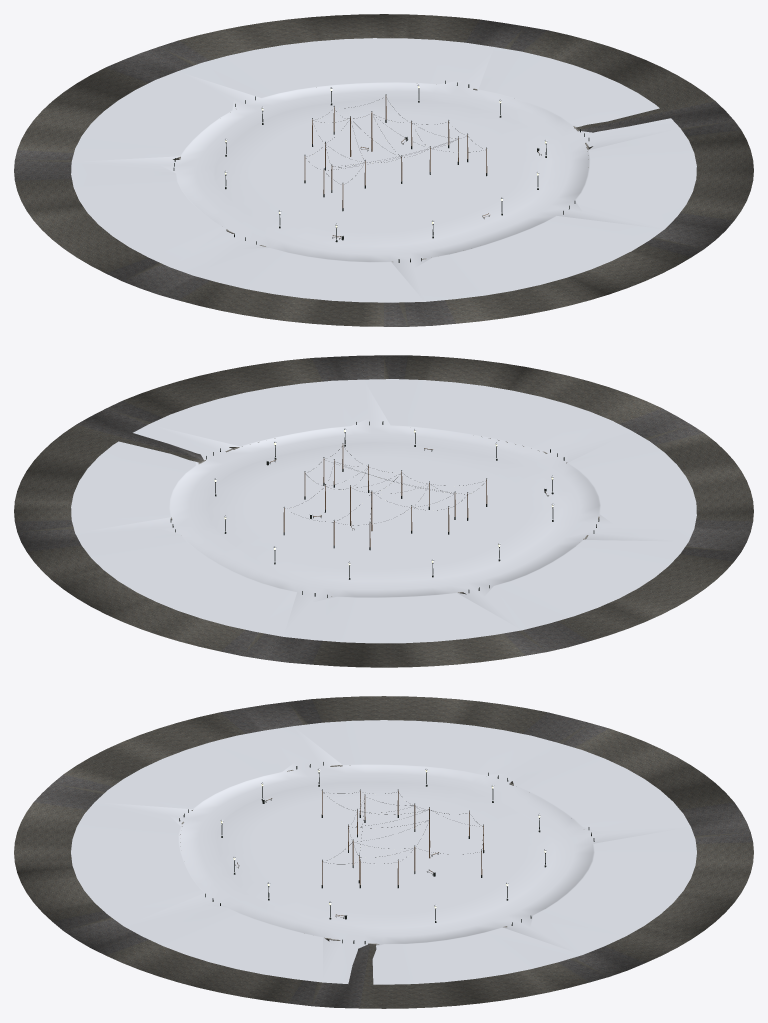
File: square.lite.glb
The picture shows the model from 3 angles, top to bottom: view 1: azimuth 30°, elevation 25°; view 2: azimuth 150°, elevation 25°; view 3: azimuth 270°, elevation 25°; orthographic projection.
Parts seen in each view (by area): view 1: snow_ground, ground, poles_wood, street_iron; view 2: snow_ground, ground, poles_wood, street_iron; view 3: snow_ground, ground, poles_wood, street_iron.
Boxes of the visible parts, <box> form: snow_ground: <box>71,38,696,302</box>; ground: <box>14,14,753,326</box>; poles_wood: <box>304,95,487,208</box>; street_iron: <box>173,80,589,262</box>; snow_ground: <box>71,379,696,643</box>; ground: <box>14,355,753,667</box>; poles_wood: <box>283,444,487,547</box>; street_iron: <box>170,421,599,597</box>; snow_ground: <box>71,720,696,984</box>; ground: <box>14,696,753,1008</box>; poles_wood: <box>321,790,483,885</box>; street_iron: <box>179,762,594,944</box>.
Size of the model in its own units: 156 by 9.73 by 156.
Materials: 12 (7 with a texture image).
